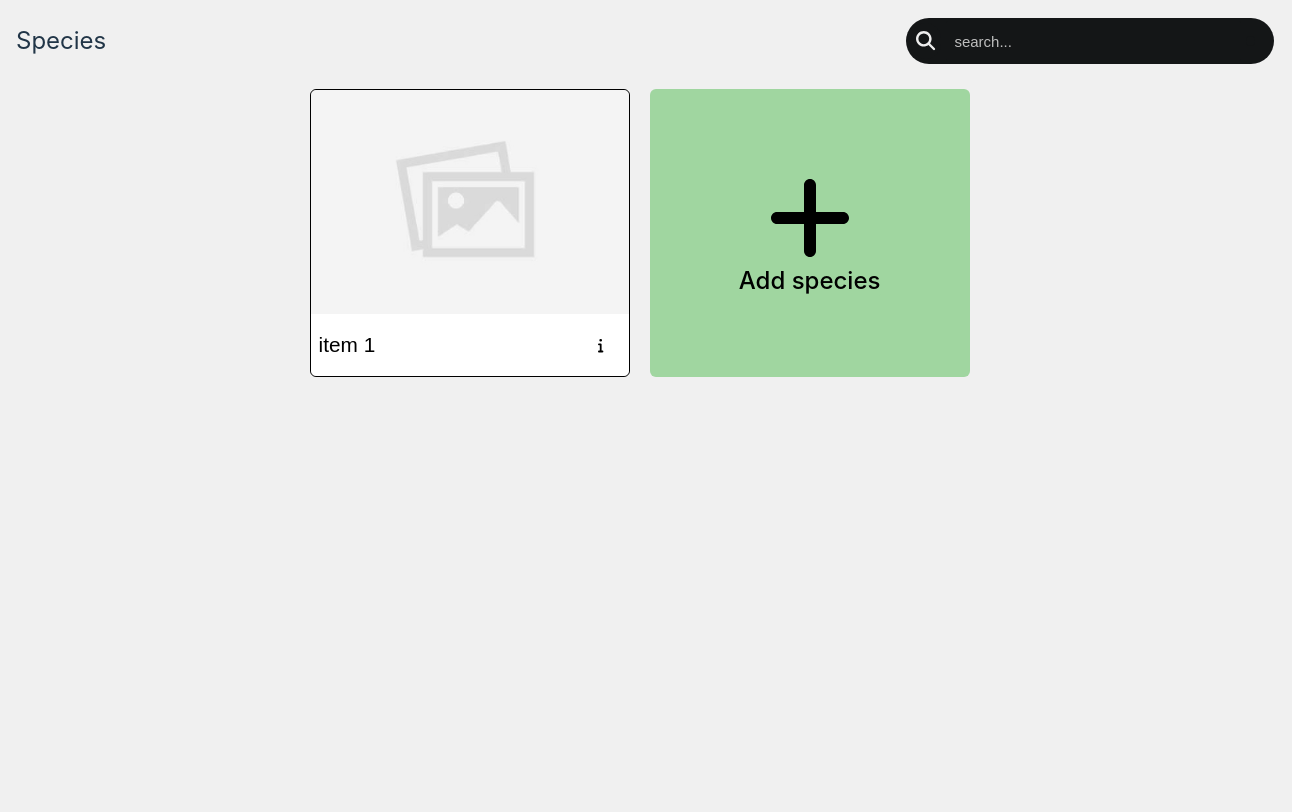
it: modifying species › edit species
The image size is (1292, 812).
Expected: the number of elements labelled "item 1" is 1, x1=310 y1=89 x2=630 y2=377
Click the button named "item-1-info" at (601, 345), box x1=587 y1=331 x2=614 y2=359
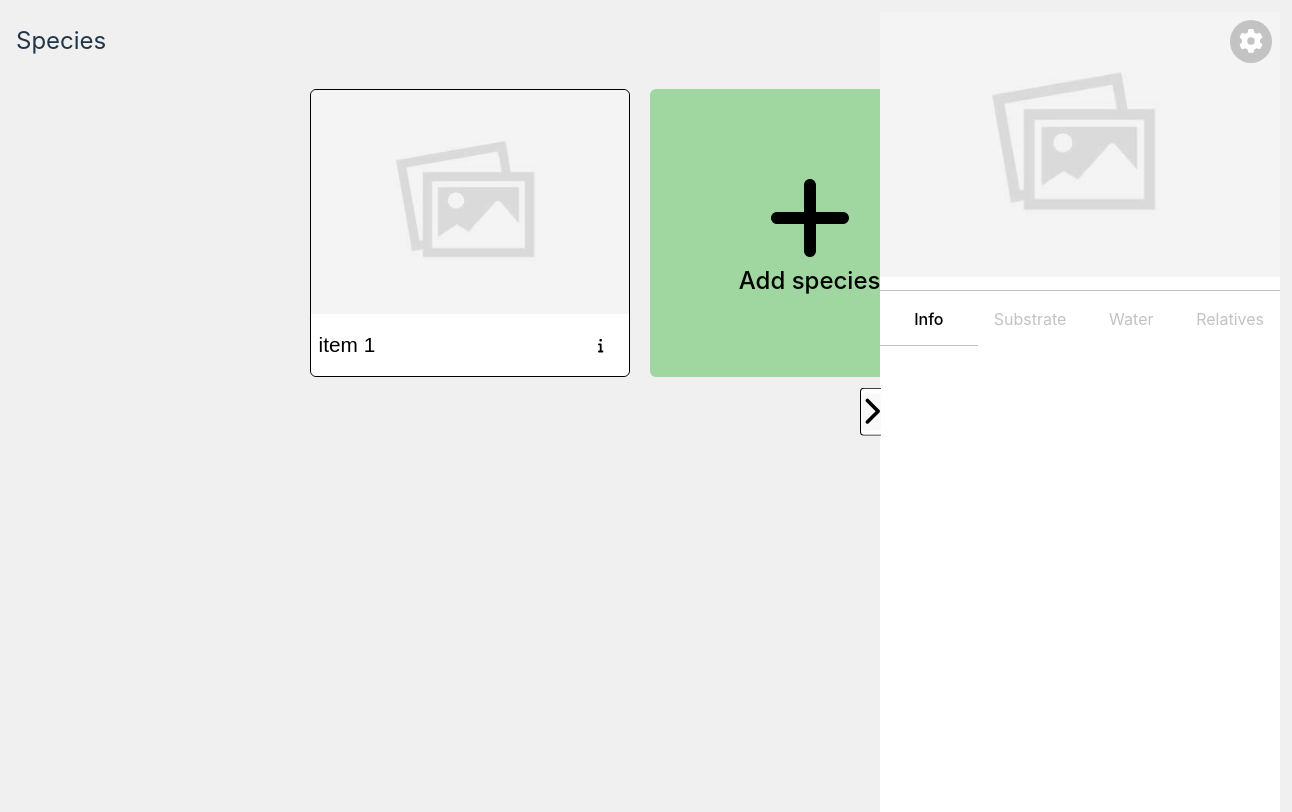
Click the button named "edit-item" at (1251, 42), box x1=1230 y1=20 x2=1272 y2=63
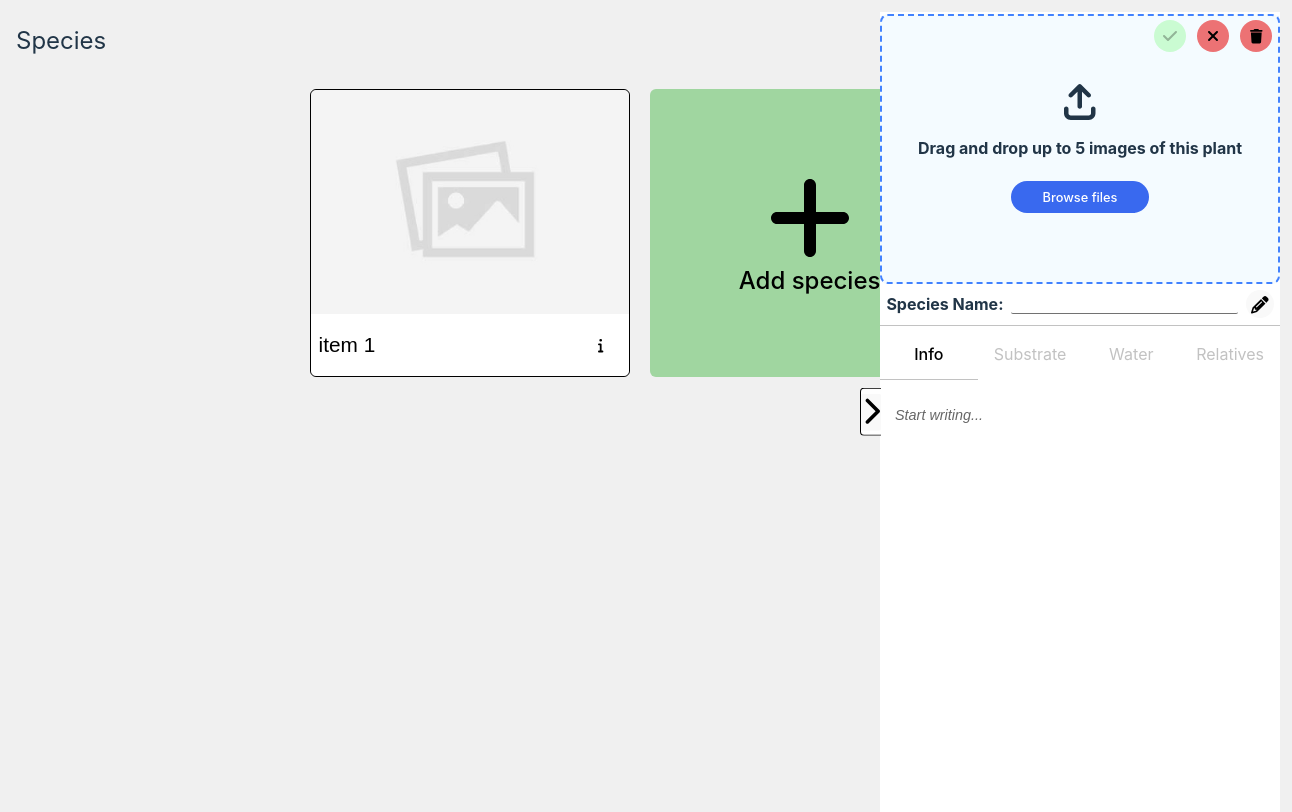
Now the button named "edit-name" is shown, box x1=1246 y1=290 x2=1274 y2=318
Type "new species 1 name" into the field named "name-input" at (1125, 304), box x1=1012 y1=295 x2=1238 y2=314
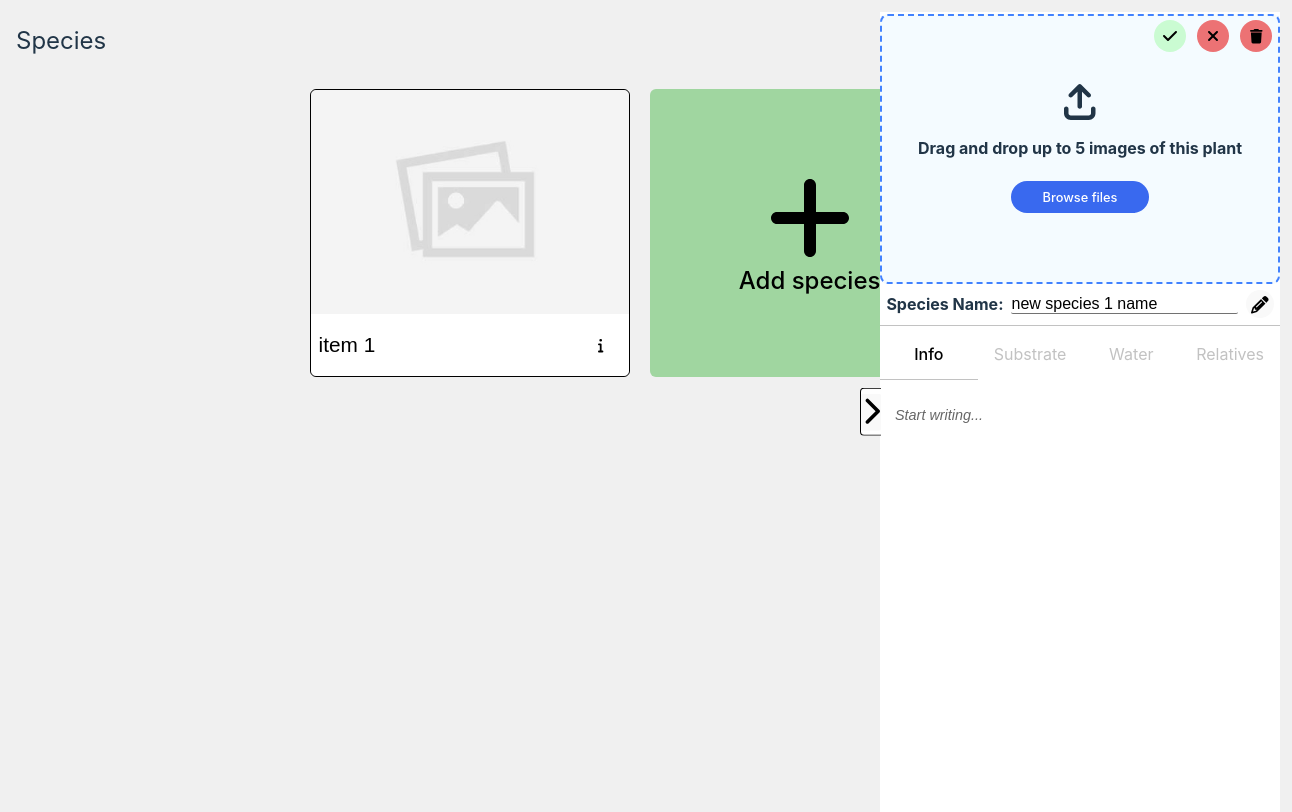
Click the button named "confirm-changes" at (1170, 36), box x1=1154 y1=20 x2=1186 y2=52
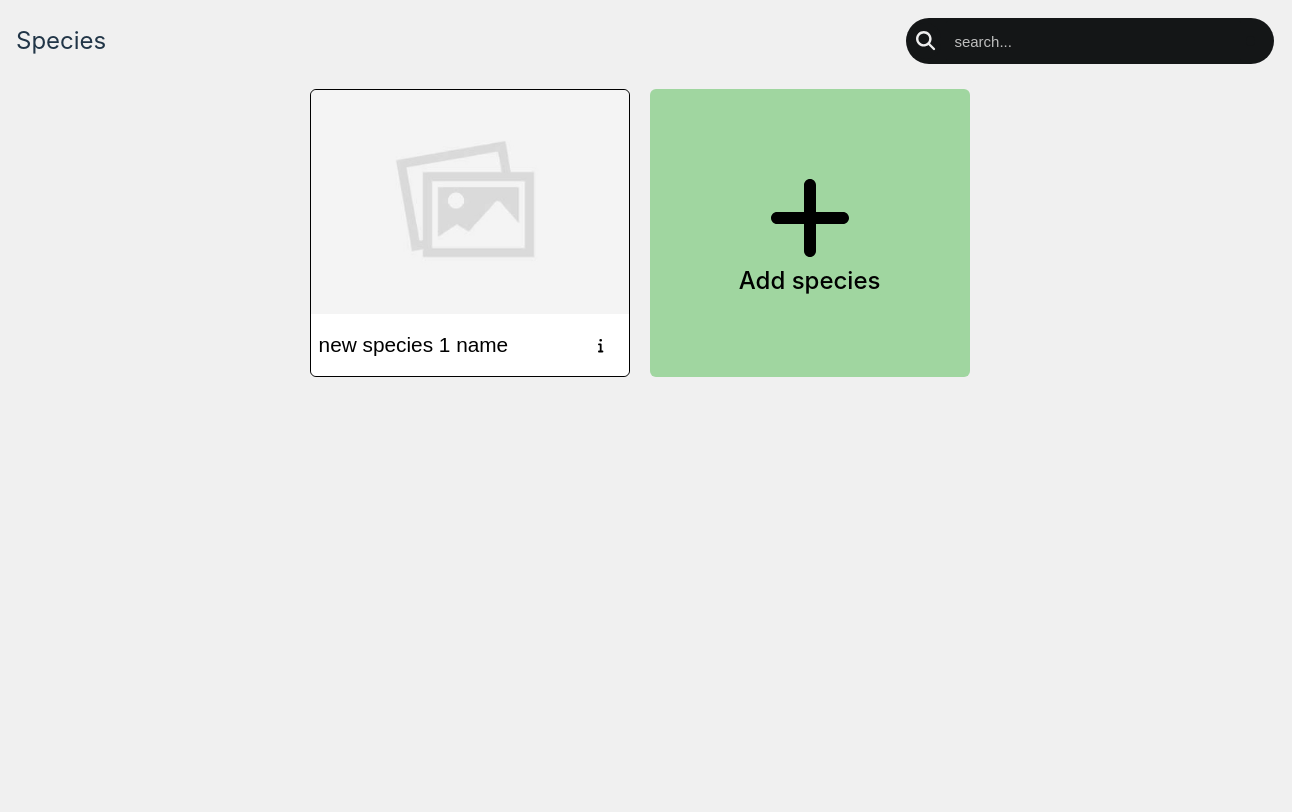
Now the text "new species 1 name" is shown, box x1=319 y1=329 x2=508 y2=361
